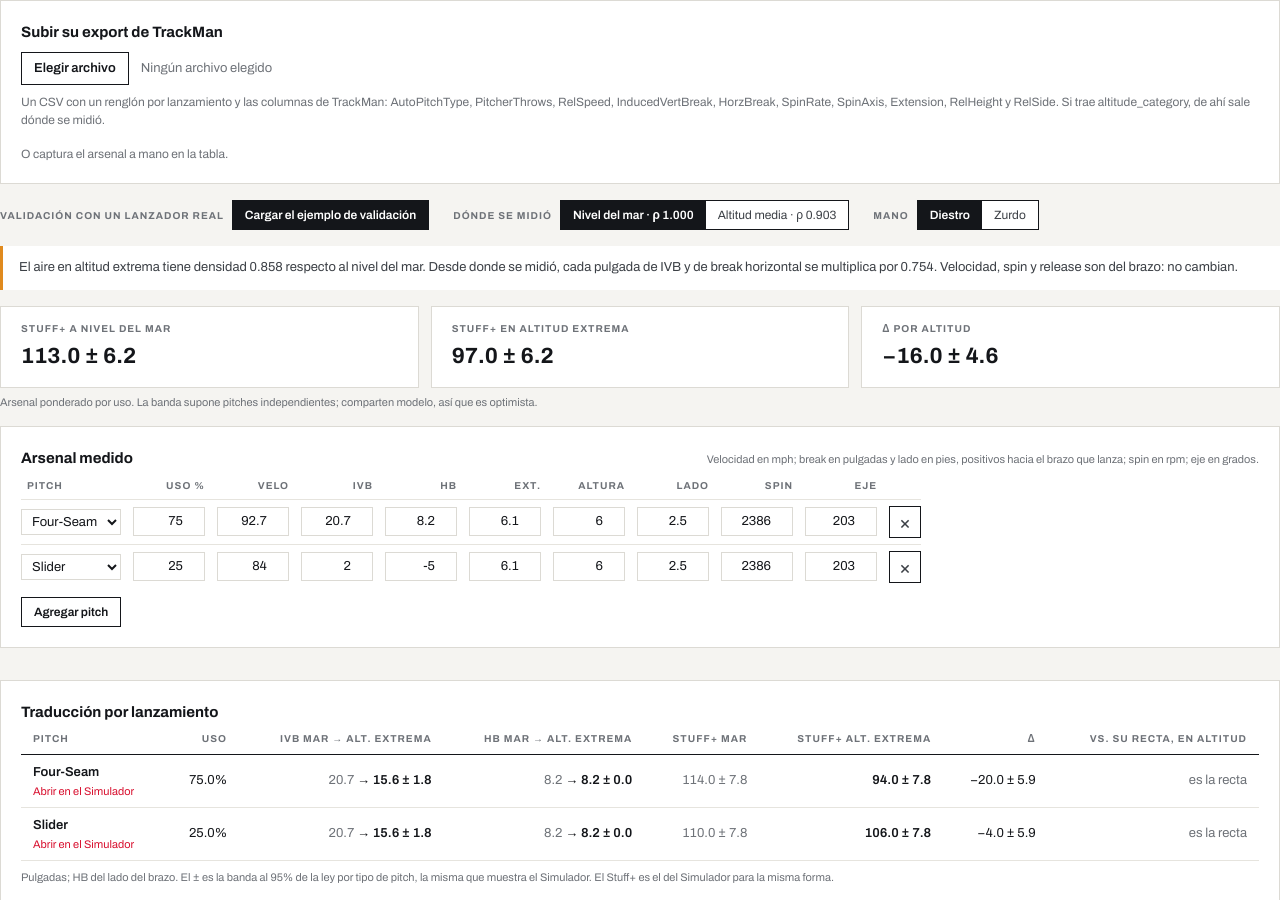
it: el Traductor › un uso vacio se marca y no se pregunta, en vez de pesar todo el arsenal en cero
Clear the number field named "Slider · Uso %" at (169, 567), box [133,552,205,581]
Wait 400 ms
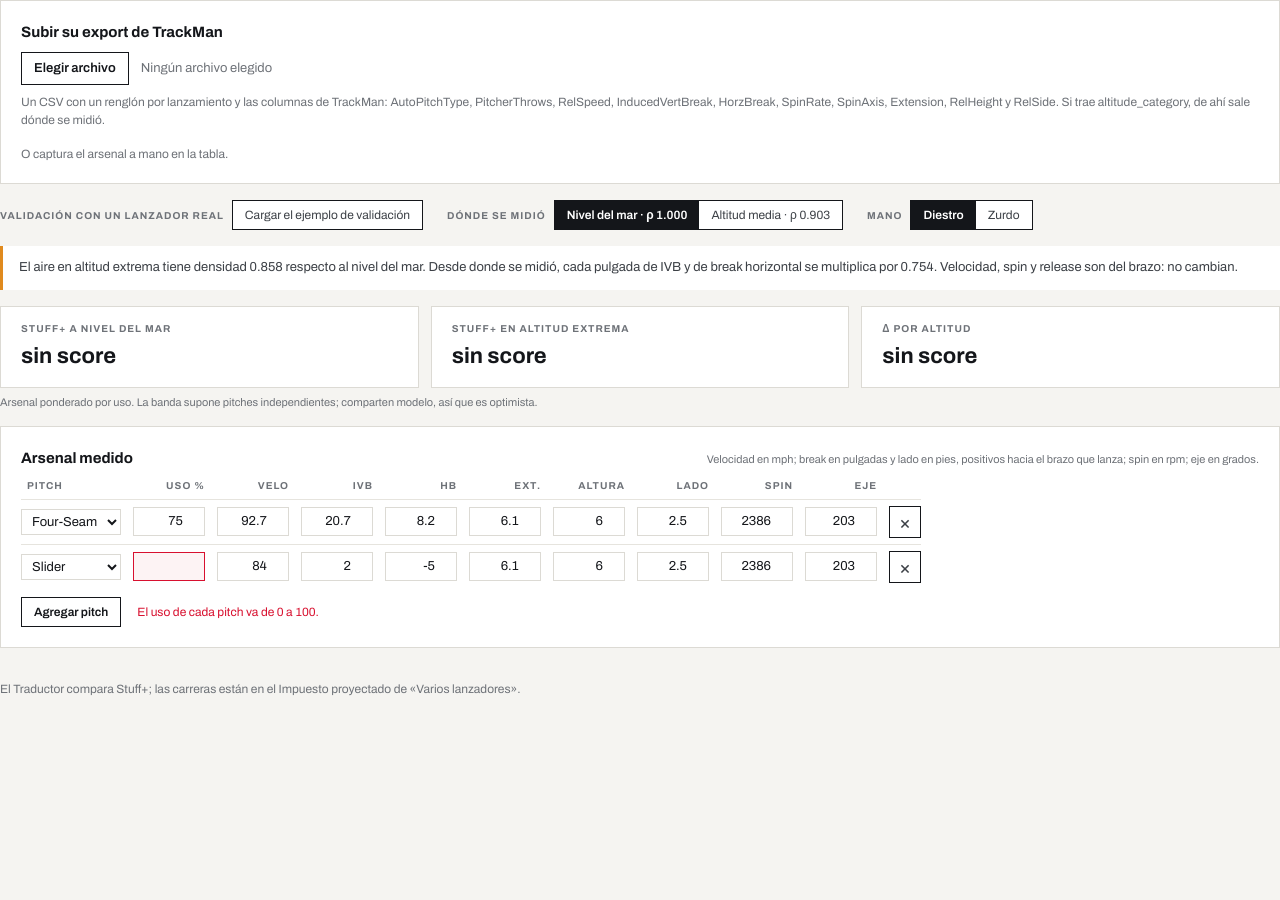
Check: the text "El uso de cada pitch va de 0 a 100." is shown, box [137,602,319,620]
